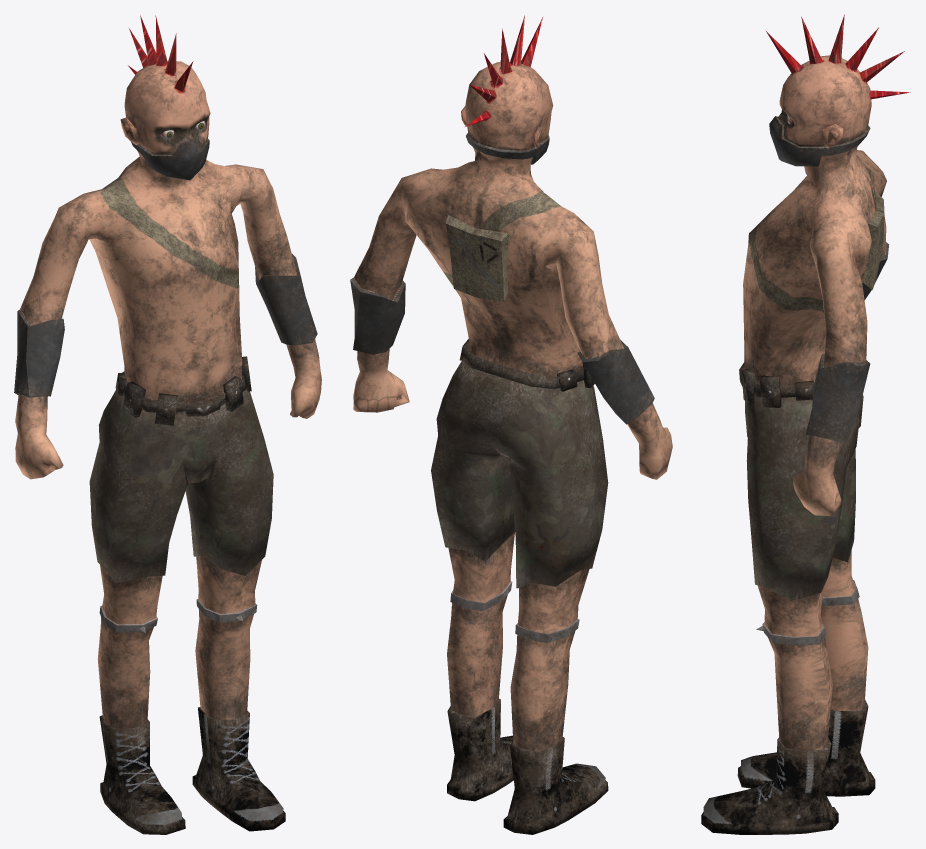
File: Anim_perder_1_npc2.0056.obj
3 renders of one model, left to right at view 1: azimuth 30°, elevation 25°; view 2: azimuth 150°, elevation 25°; view 3: azimuth 270°, elevation 25°, orthographic.
Visible parts, largest first — view 1: polySurface1; view 2: polySurface1; view 3: polySurface1.
Part boxes in pixels (bbox=[...]): polySurface1: bbox=[14, 15, 321, 834]; polySurface1: bbox=[350, 15, 672, 834]; polySurface1: bbox=[701, 14, 910, 834].
Size of the model in its own units: 4.16 by 10.16 by 2.46.
2 materials, 2 textured.
